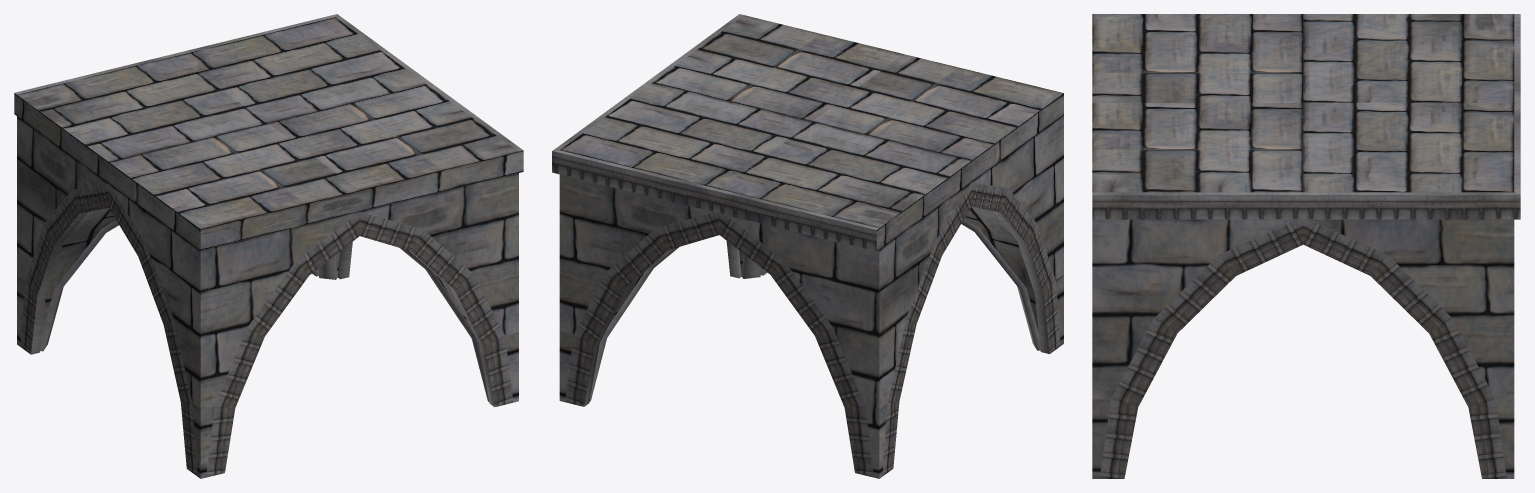
Rendered from vault_small_corner_L_01.glb.
The picture shows the model from 3 angles, left to right: view 1: azimuth 30°, elevation 25°; view 2: azimuth 150°, elevation 25°; view 3: azimuth 270°, elevation 25°; orthographic projection. The views are drawn at different scales.
Visible parts, largest first — view 1: vault_small_corner_L_01; view 2: vault_small_corner_L_01; view 3: vault_small_corner_L_01.
Part boxes in pixels (x1=…): vault_small_corner_L_01: x1=14, y1=14, x2=523, y2=478; vault_small_corner_L_01: x1=552, y1=14, x2=1063, y2=478; vault_small_corner_L_01: x1=1092, y1=14, x2=1520, y2=478.
Bounding box in the file's own units: 8.12 × 6 × 8.12.
1 material, 1 textured.
